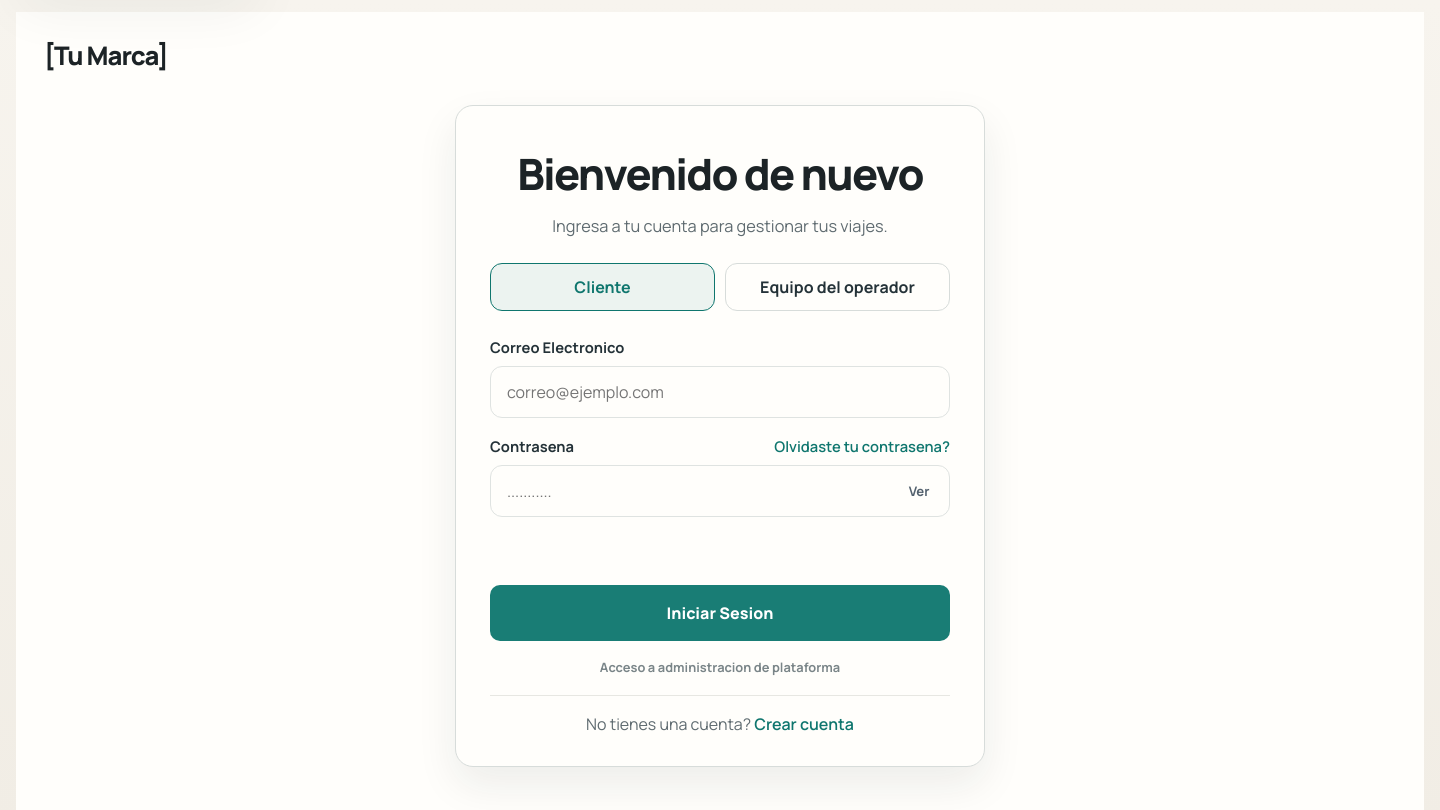
Scenario: LoginComponent (login real Cliente/Staff via LoginUseCase — Fase 5) › error de red: muestra el mensaje de conexión ya normalizado por el caso de uso
Type "laura@example.com" into the field named "email".
click(720, 392); type("laura@example.com")  # box [490,366,950,418]
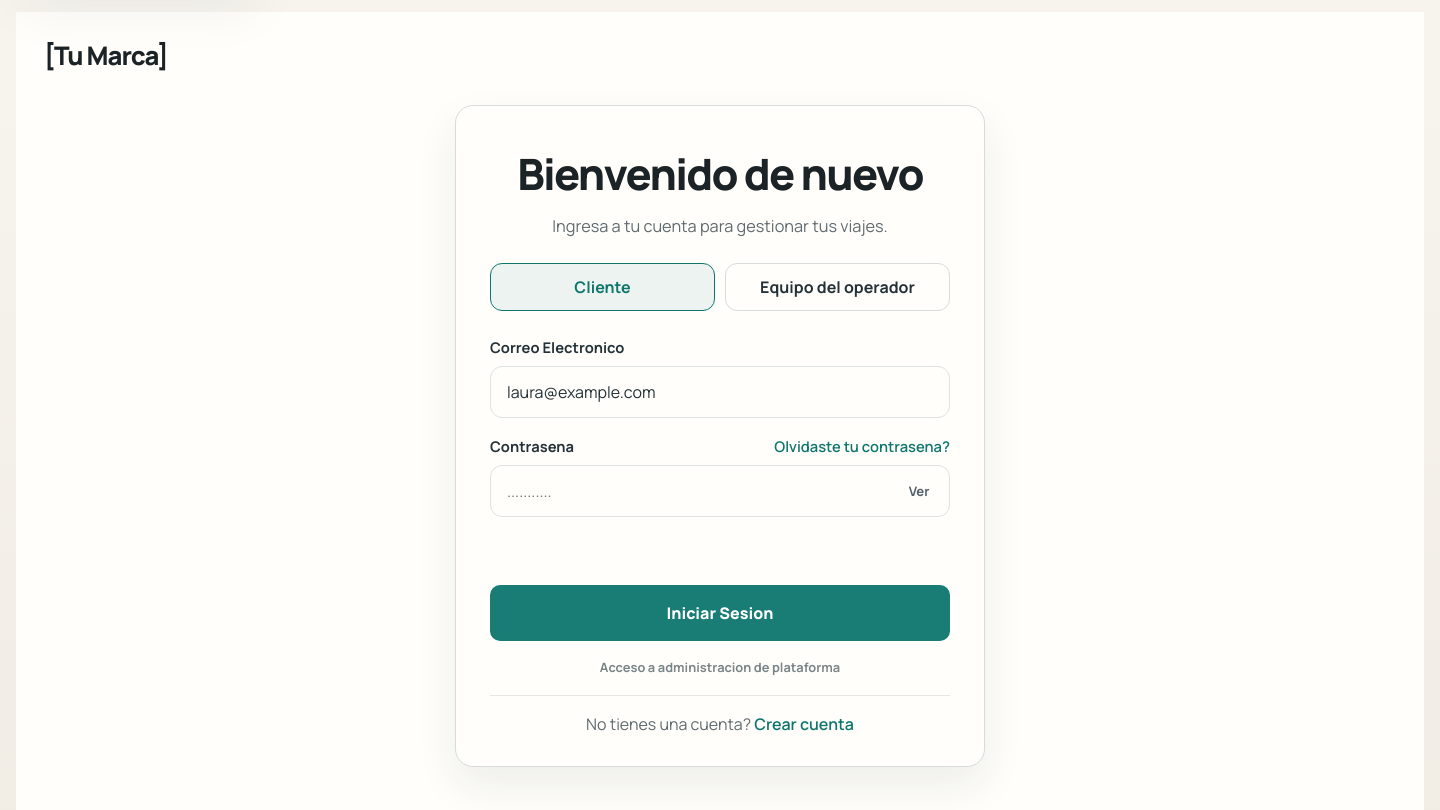
Type "Multitour#2026" into the password field named "password".
click(720, 491); type("Multitour#2026")  # box [490,465,950,517]
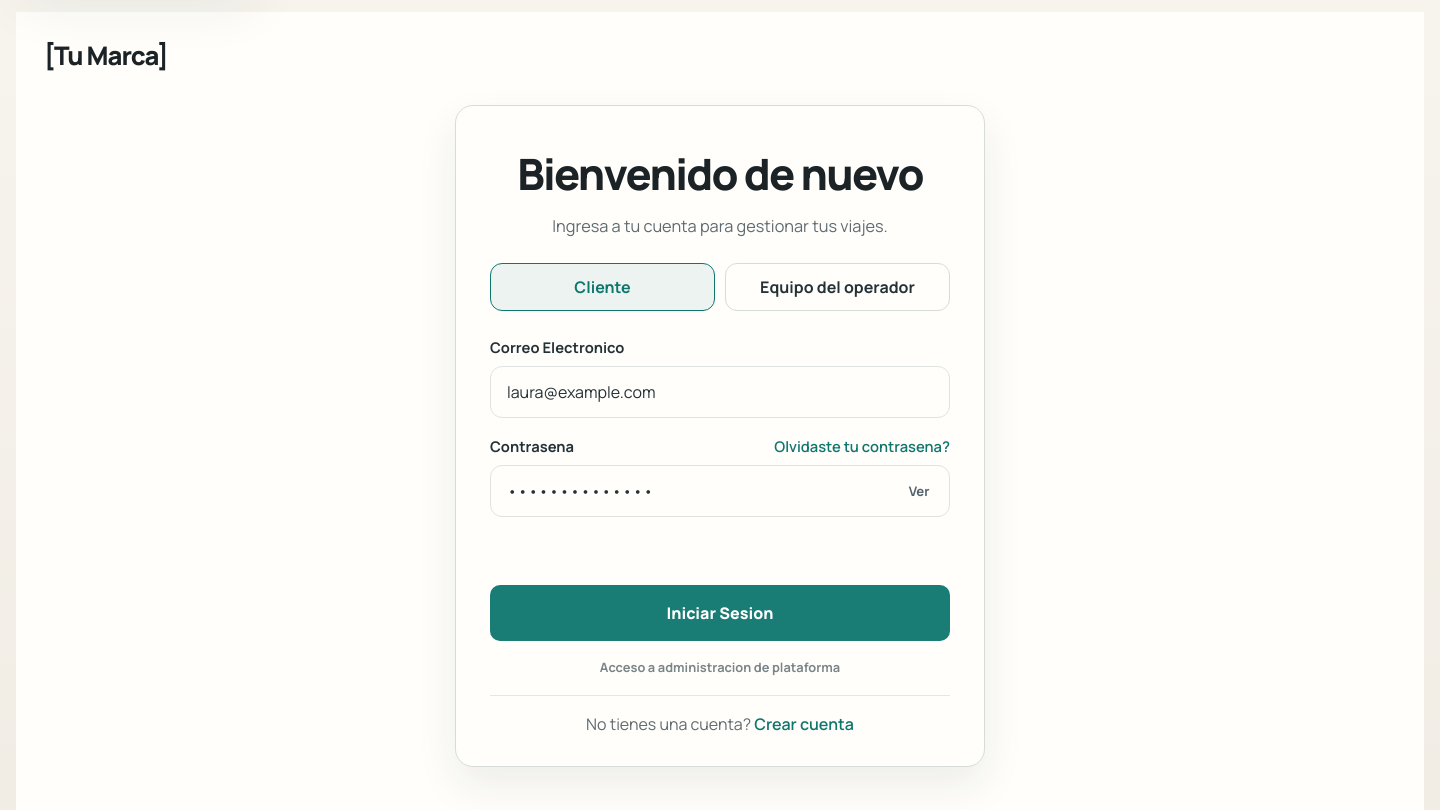
Submit the form, box [490,337,950,641]
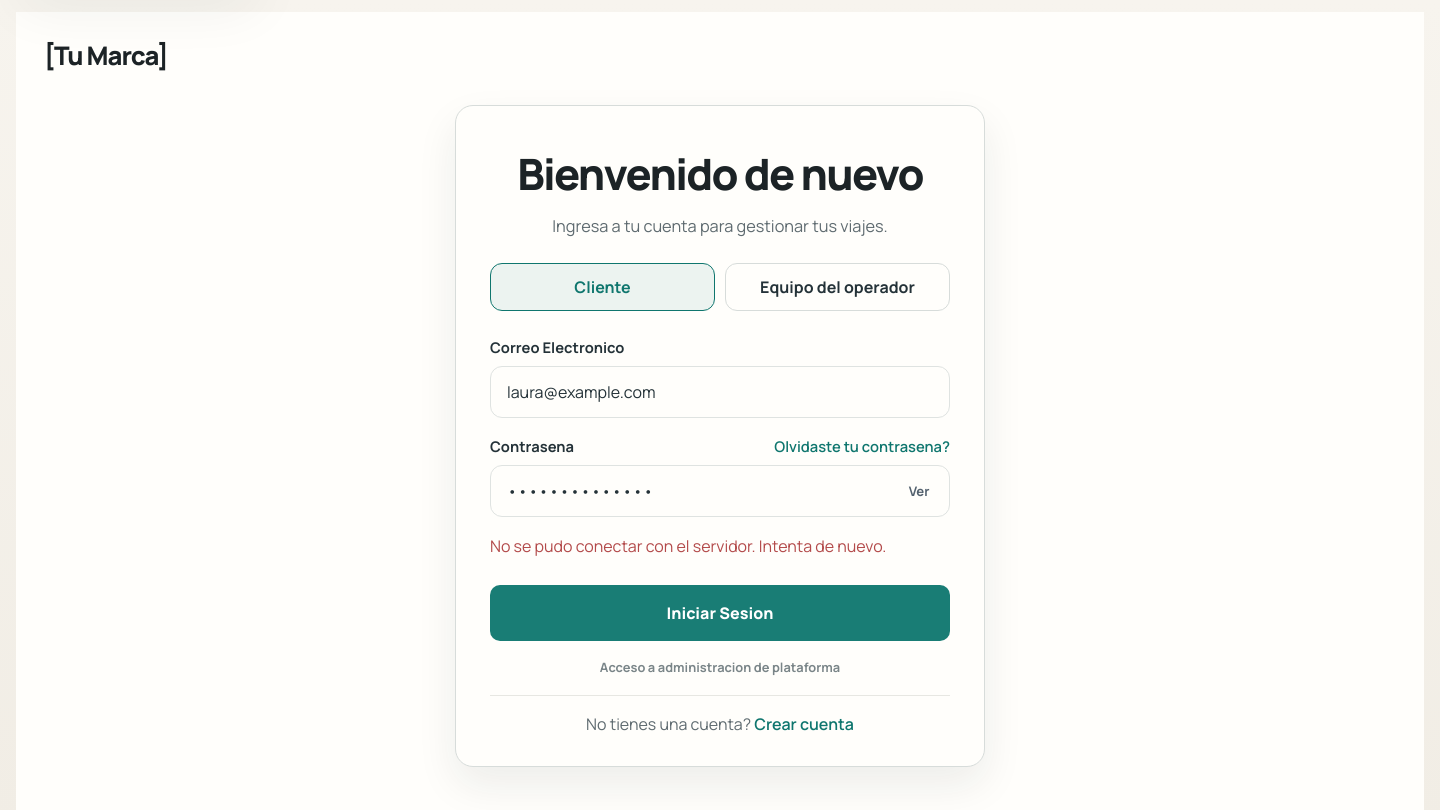
Result: the text "No se pudo conectar con el servidor. Intenta de nuevo." is shown at [490,535,950,559]
